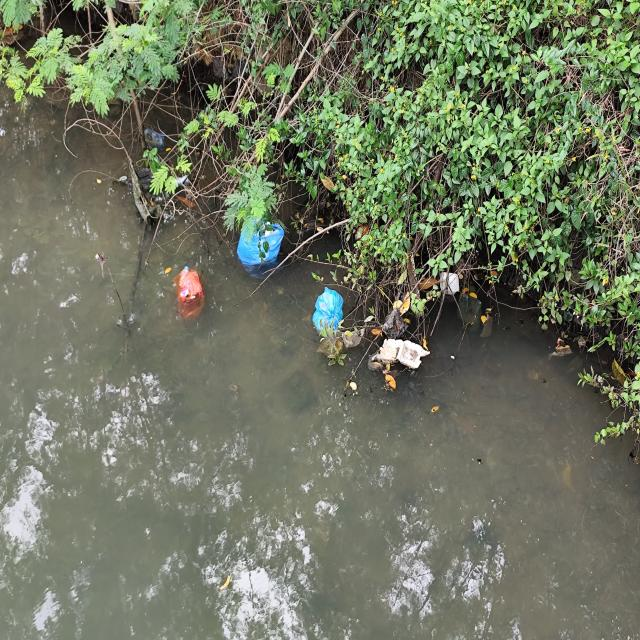Bungkus Makanan: (380, 337, 432, 372)
Kantong Plastik: (315, 286, 346, 347), (174, 264, 205, 318)
